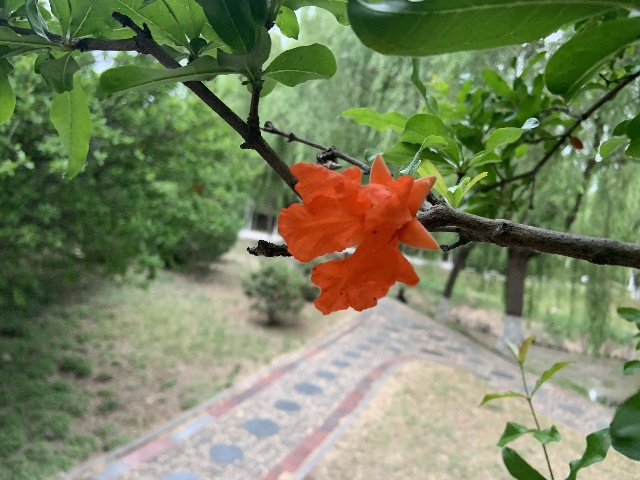flower: (277, 153, 437, 315)
